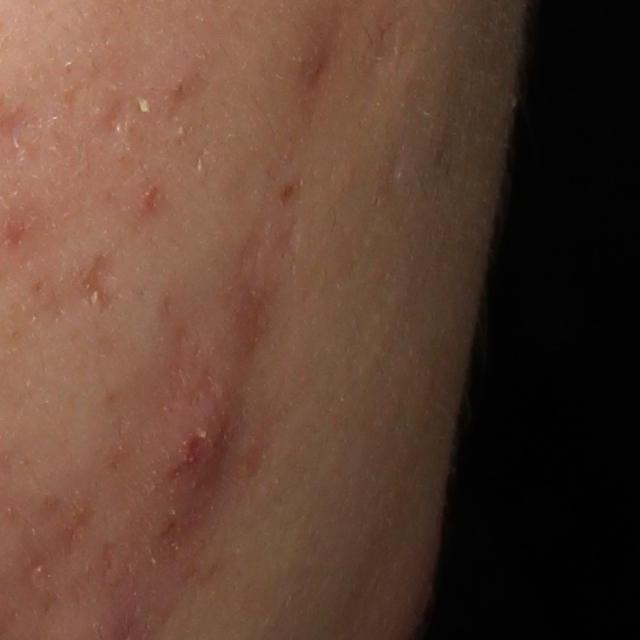atrophic_scar: (30, 491, 99, 601), (79, 256, 116, 312), (98, 88, 133, 141)
nodule: (141, 261, 271, 553)
papule: (135, 184, 158, 214)
